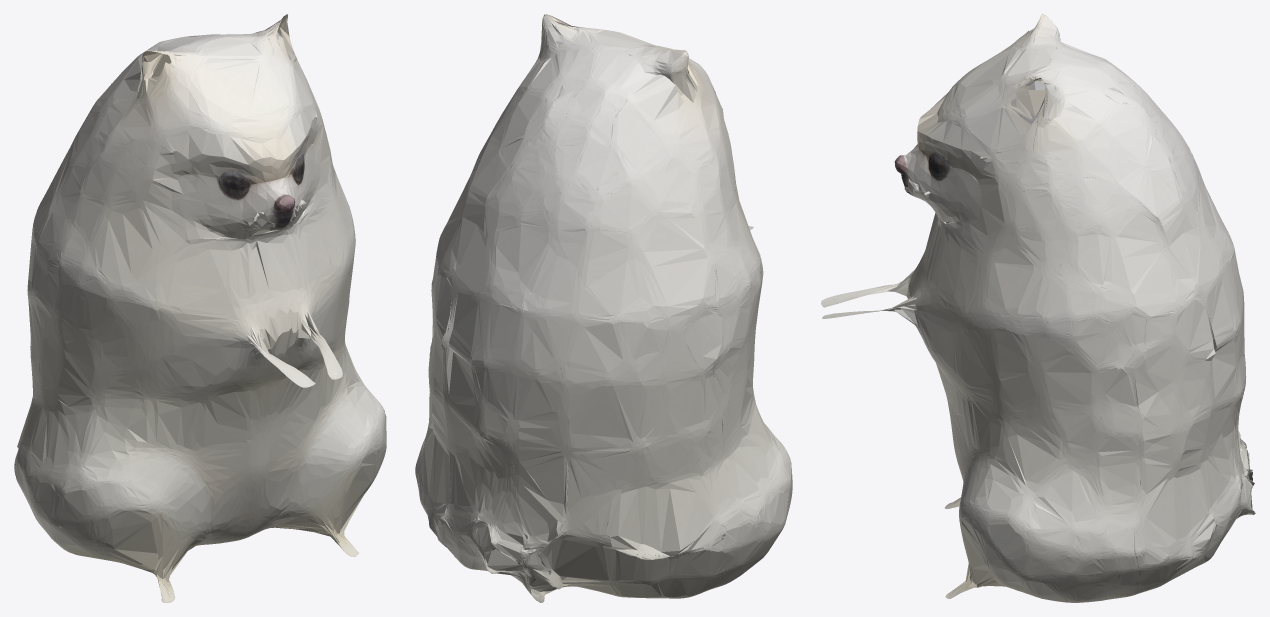
The model's file is pomeranian-refined.glb.
3 views of the same model, side by side, from view 1: azimuth 30°, elevation 25°; view 2: azimuth 150°, elevation 25°; view 3: azimuth 270°, elevation 25° (orthographic).
Parts seen in each view (by area): view 1: world; view 2: world; view 3: world.
Boxes of the visible parts, x1,y1,x2,y2 form: world: (14, 14, 386, 602); world: (415, 14, 792, 602); world: (821, 14, 1255, 602).
Bounding box in the file's own units: 0.6283 × 0.9327 × 0.7215.
1 material, 1 textured.
